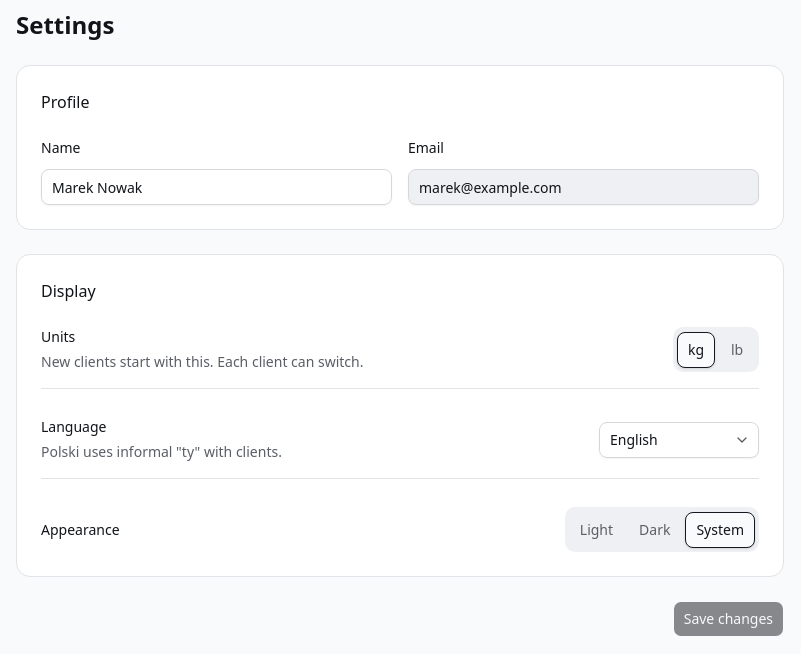
Scenario: SettingsPage › sends only what changed and confirms the save
Replace the text in the field labelled "Name" with "Marek Kowalski" at point(216, 187), box [41,169,392,205]
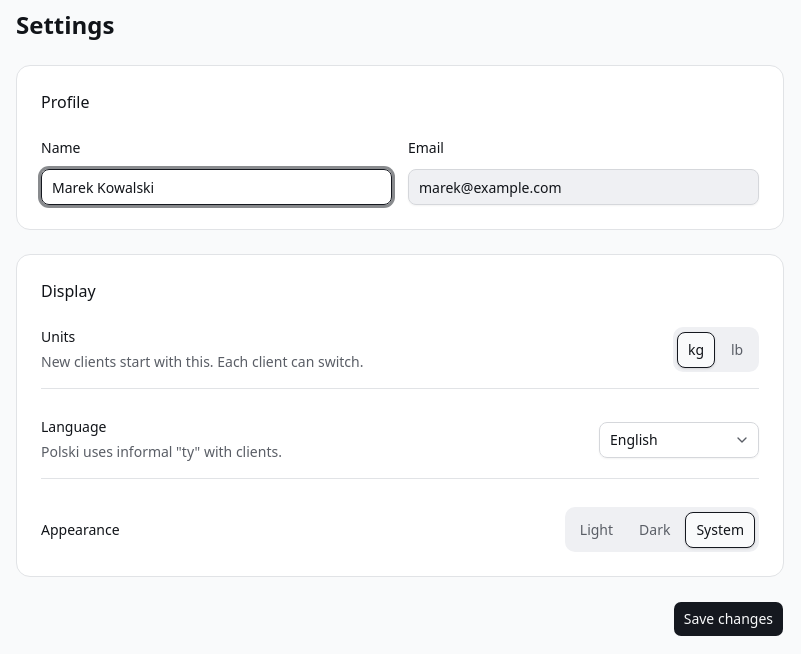
Click the radio button labelled "Dark" at point(655, 530), box [628,512,681,548]
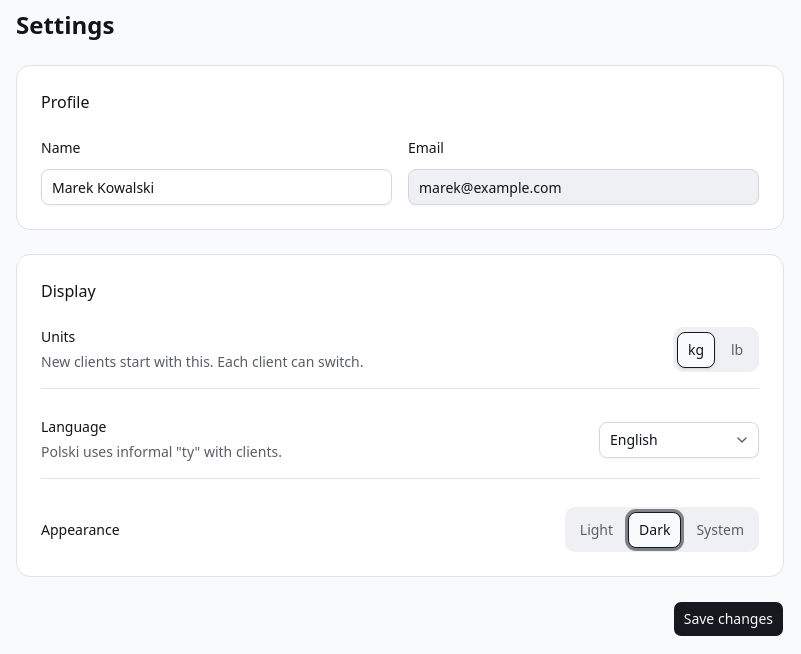
Check: the button "Save changes" is enabled
Click the button "Save changes" at point(728, 619), box [673,601,784,637]
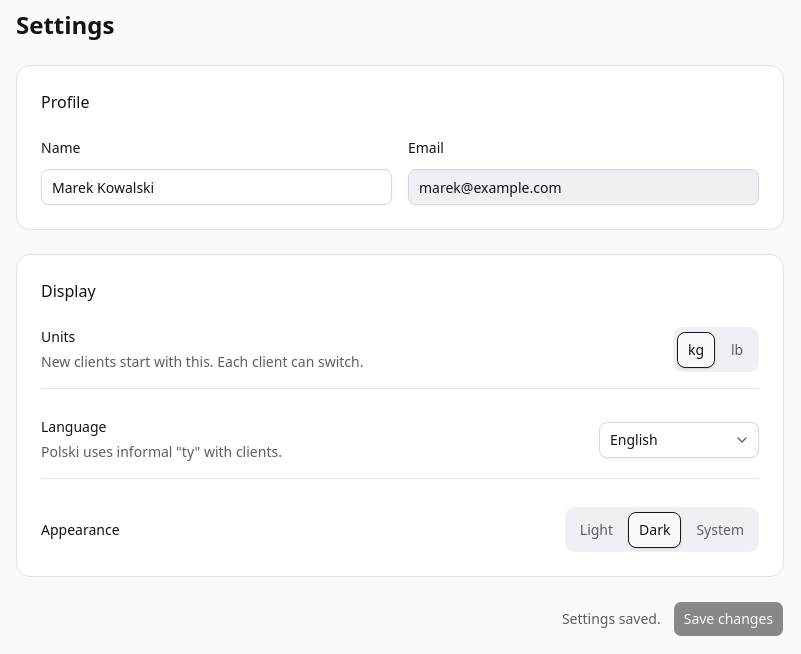
Check: the text "Settings saved." is shown, box [562,609,661,629]
Check: the button "Save changes" is disabled, box [673,601,784,637]
